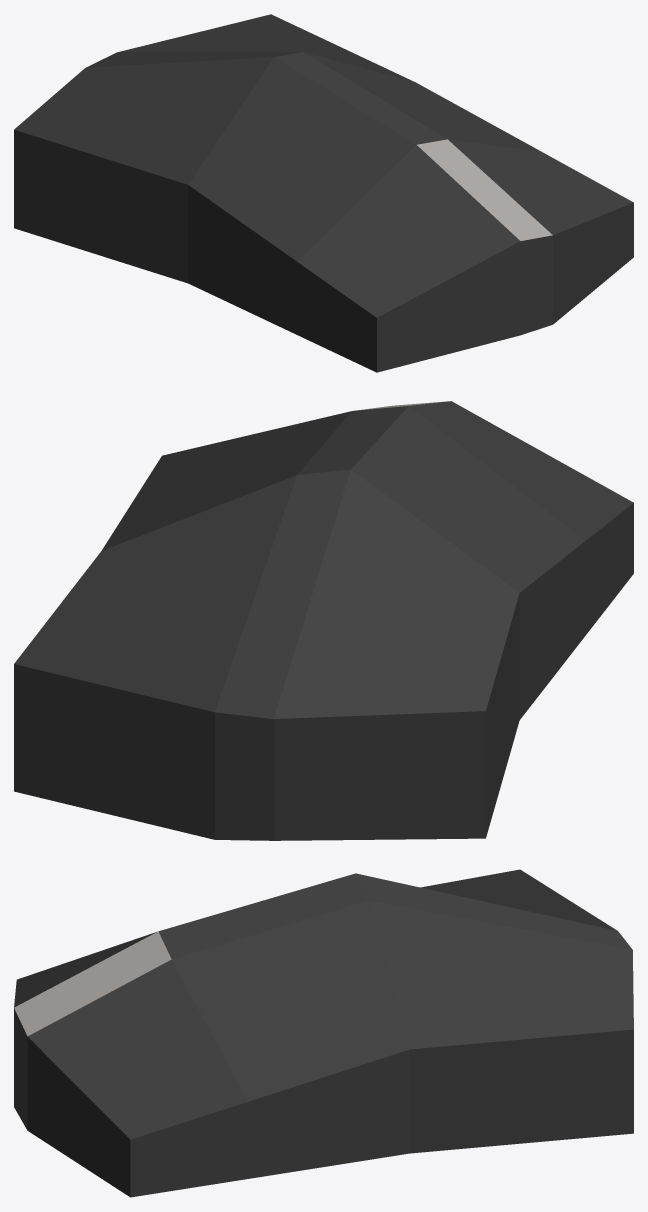
Rendered from Office2_Mouse.fbx.
3 views of the same model, one above another, from view 1: azimuth 30°, elevation 25°; view 2: azimuth 150°, elevation 25°; view 3: azimuth 270°, elevation 25° (orthographic). The views are drawn at different scales.
Visible parts, largest first — view 1: Office2_Mouse; view 2: Office2_Mouse; view 3: Office2_Mouse.
Boxes of the visible parts, bbox=[...] form: Office2_Mouse: bbox=[14, 14, 633, 372]; Office2_Mouse: bbox=[14, 401, 633, 840]; Office2_Mouse: bbox=[14, 869, 633, 1197].
Size of the model in its own units: 16.25 by 6.56 by 19.01.
